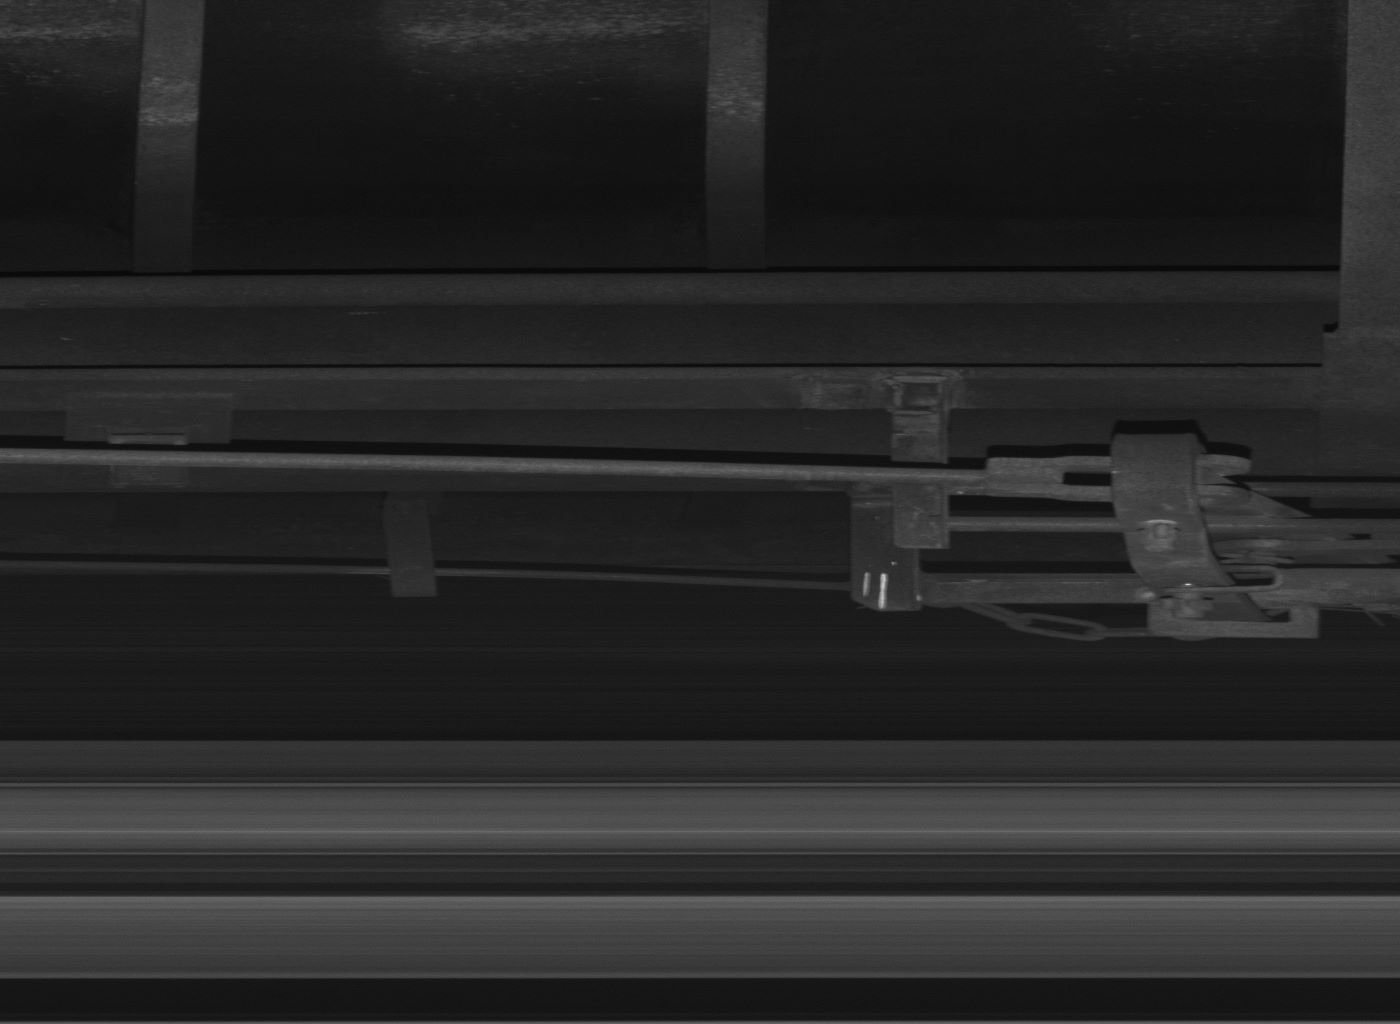normal: (382, 494, 440, 598)
